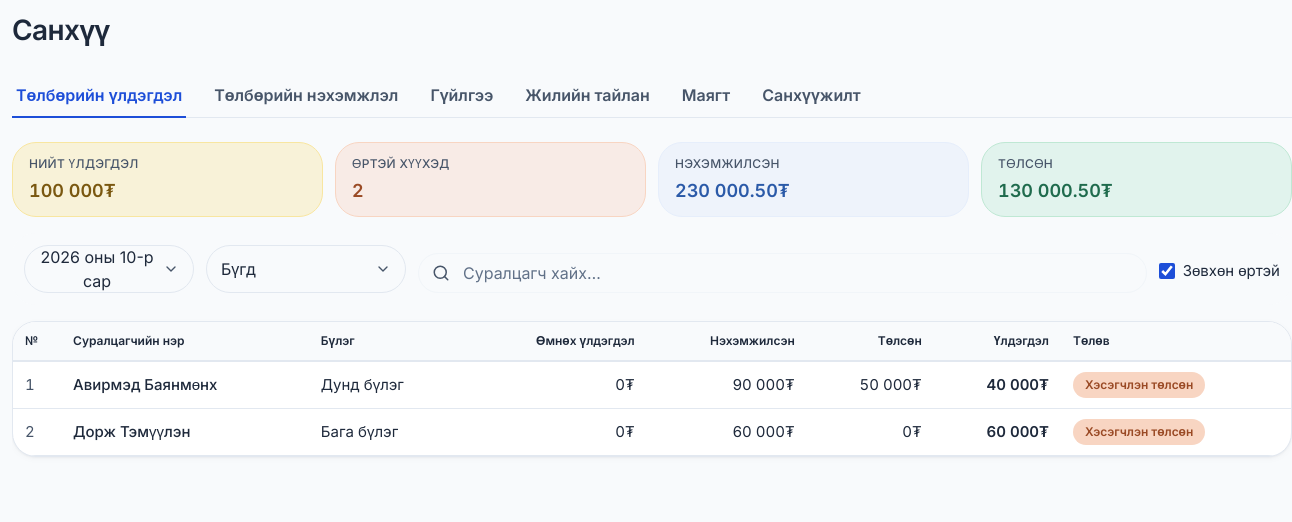
Test case: Санхүү — tabs › lists only the children who owe, and everyone on request
Expected: the link "Авирмэд Баянмөнх" is shown, [73,374,217,394]
Expected: the link "Дорж Тэмүүлэн" is shown, [73,422,190,440]
Click the checkbox labelled "Зөвхөн өртэй". click: (1167, 271)
box: [1159,263,1175,279]
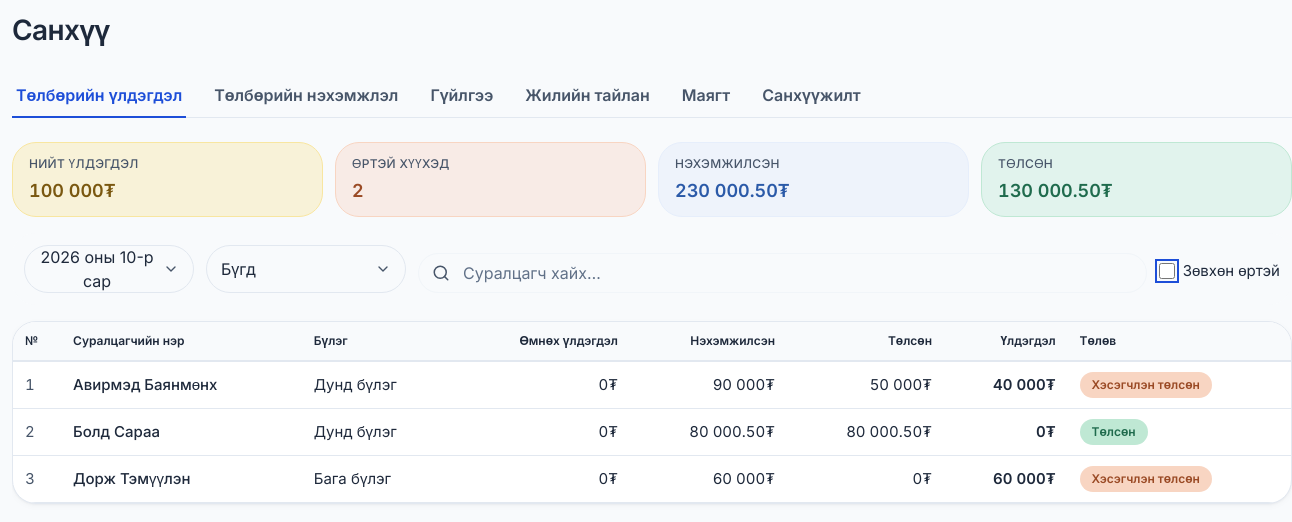
Now the link "Болд Сараа" is shown, box [73,422,160,440]
